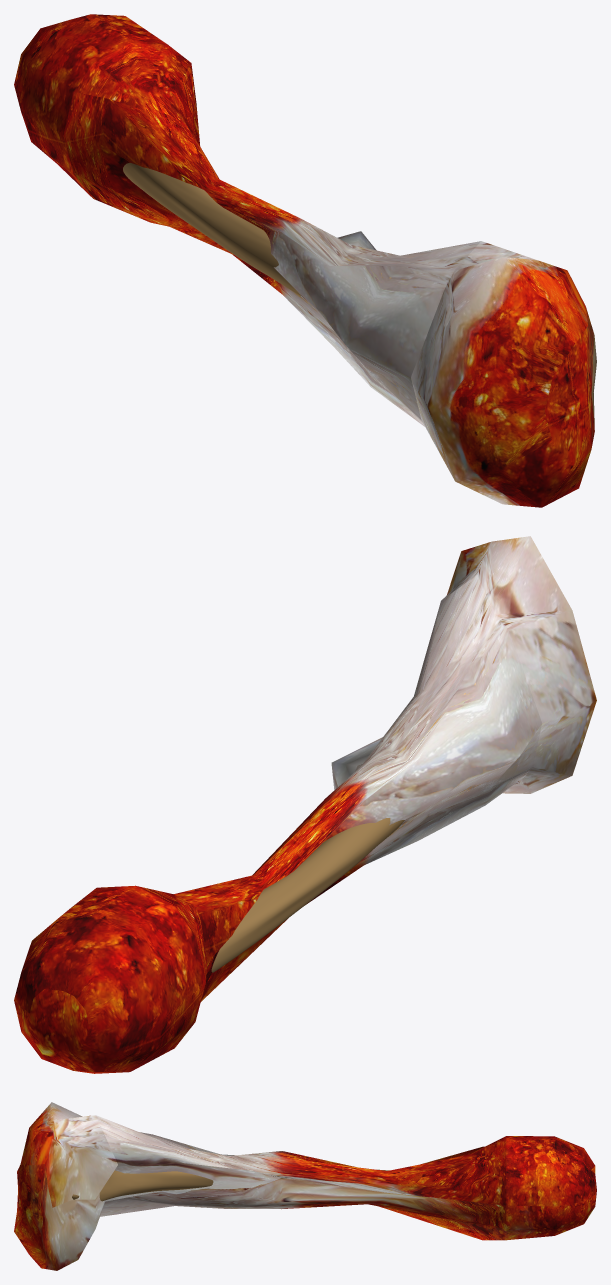
Rendered from friedChicken_Red_eat03.FBX.
3 views of the same model, one above another, from view 1: azimuth 30°, elevation 25°; view 2: azimuth 150°, elevation 25°; view 3: azimuth 270°, elevation 25° (orthographic). The views are drawn at different scales.
Parts seen in each view (by area): view 1: Chicken_red_eat03, Chicken_red_eat03_bone; view 2: Chicken_red_eat03, Chicken_red_eat03_bone; view 3: Chicken_red_eat03, Chicken_red_eat03_bone.
Part boxes in pixels (left/top/right/bottom): Chicken_red_eat03: left=14, top=14, right=596, bottom=507; Chicken_red_eat03_bone: left=123, top=163, right=300, bottom=295; Chicken_red_eat03: left=14, top=536, right=596, bottom=1073; Chicken_red_eat03_bone: left=211, top=818, right=404, bottom=972; Chicken_red_eat03: left=14, top=1102, right=596, bottom=1270; Chicken_red_eat03_bone: left=72, top=1169, right=389, bottom=1201.
Size of the model in its own units: 6.92 by 34.28 by 9.9.
2 materials, 1 textured.
